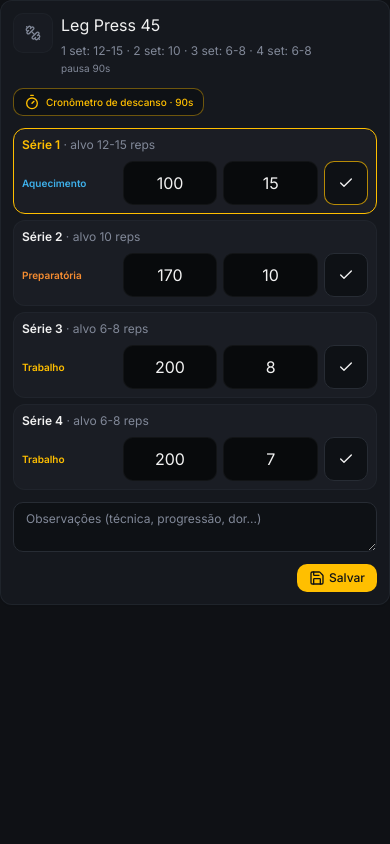
it: Modo Treino admin — exercício normal no formato do grupo › confirmar cada tipo inicia o descanso do tipo e mostra qual está rodando
The image size is (390, 844).
Click the button named "Confirmar série 1 Aquecimento". click: (346, 183)
box: top-left (324, 161), bottom-right (368, 205)
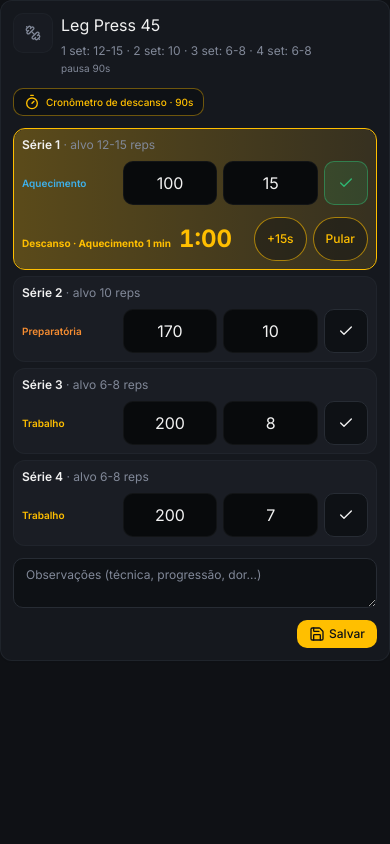
Now the text "Descanso · Aquecimento 1 min" is shown, box top-left (22, 237), bottom-right (171, 249)
Click the button named "Confirmar série 2 Preparatória". click: (346, 331)
box: top-left (324, 309), bottom-right (368, 353)
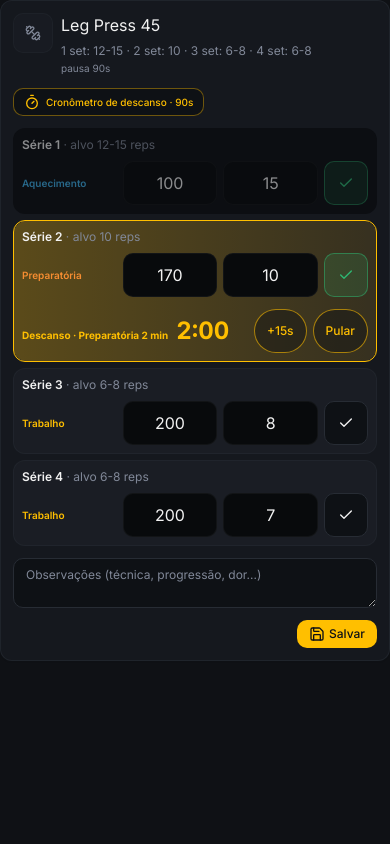
Click the button named "Confirmar série 3 Principal". click: (346, 423)
box: top-left (324, 401), bottom-right (368, 445)
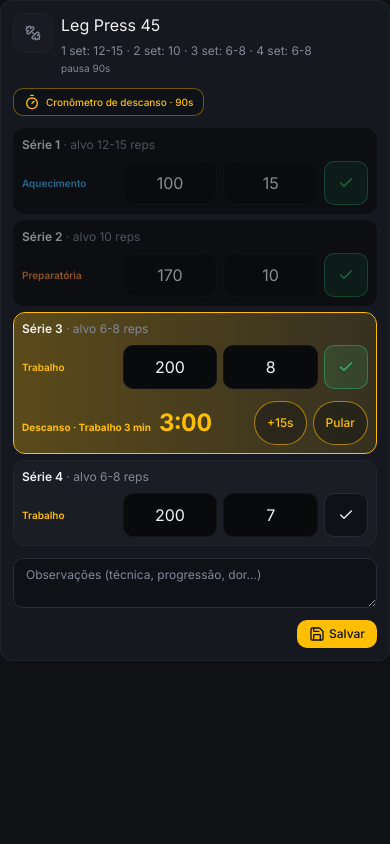
Now the text "Descanso · Trabalho 3 min" is shown, box top-left (22, 421), bottom-right (151, 433)
